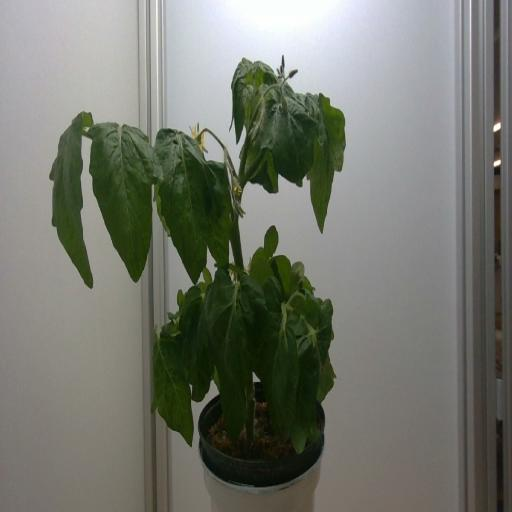Tomato-Leaves-Cupboard-: (89, 109, 158, 292), (147, 122, 211, 287), (48, 104, 96, 299), (209, 263, 258, 443), (152, 328, 193, 448), (302, 94, 334, 240), (284, 329, 318, 451), (274, 103, 320, 190), (178, 290, 212, 406), (202, 147, 232, 278), (266, 308, 294, 446), (312, 79, 350, 175), (238, 128, 286, 200), (294, 276, 334, 362), (230, 64, 249, 137), (273, 251, 301, 298), (244, 242, 272, 286), (241, 85, 264, 132), (264, 224, 282, 258), (258, 62, 278, 85)
